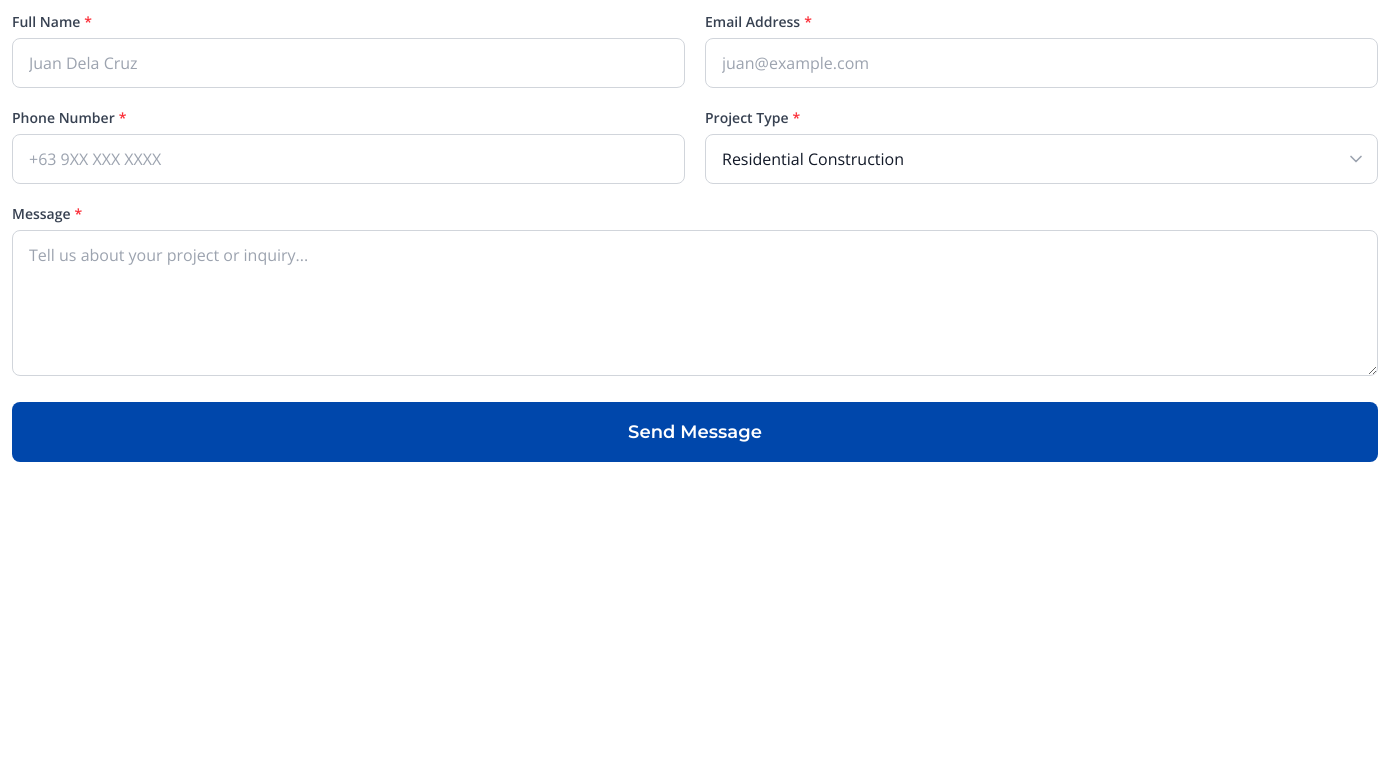
ContactForm › Validation › shows error for short message
The image size is (1390, 780).
In the text box labelled "Message*": (695, 303) [12, 230, 1378, 376], type "short"
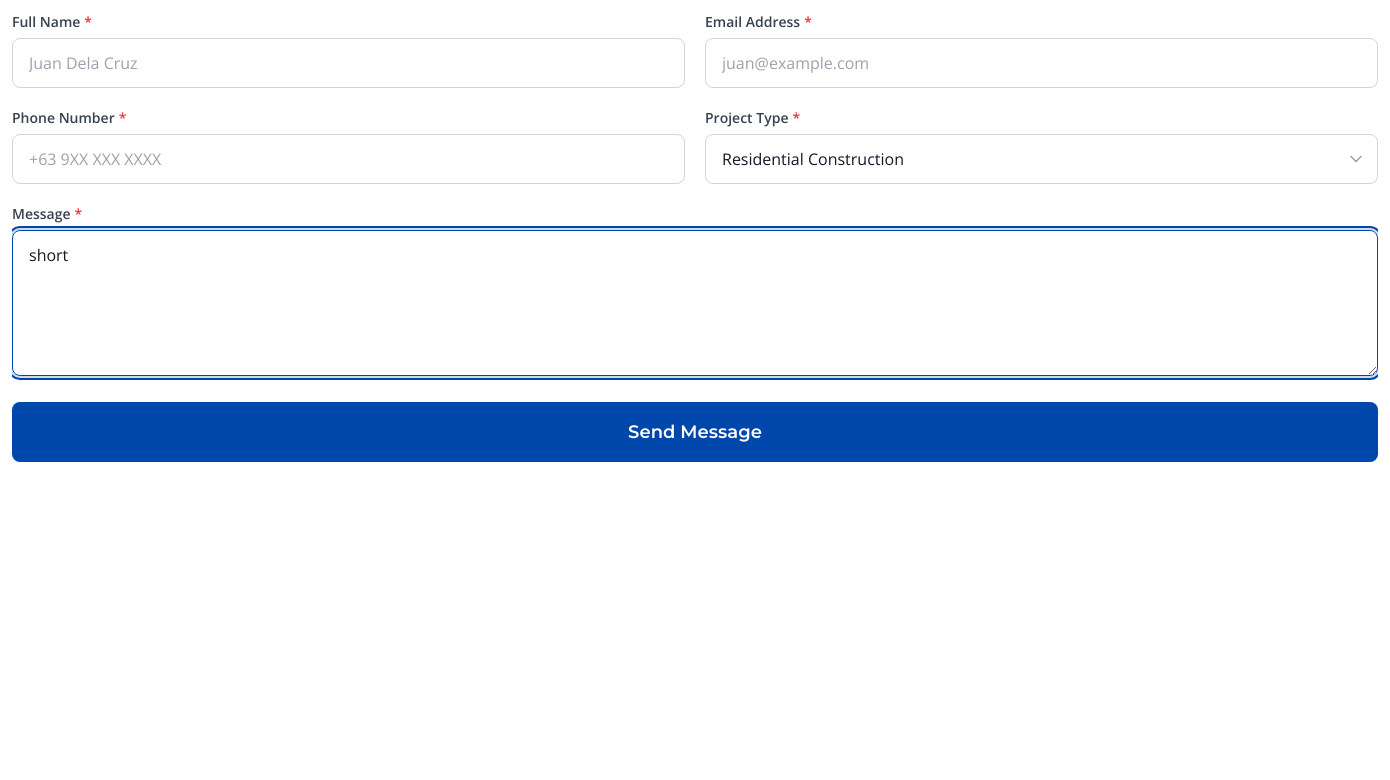
Click the button "Send Message": (695, 432) [12, 402, 1378, 462]
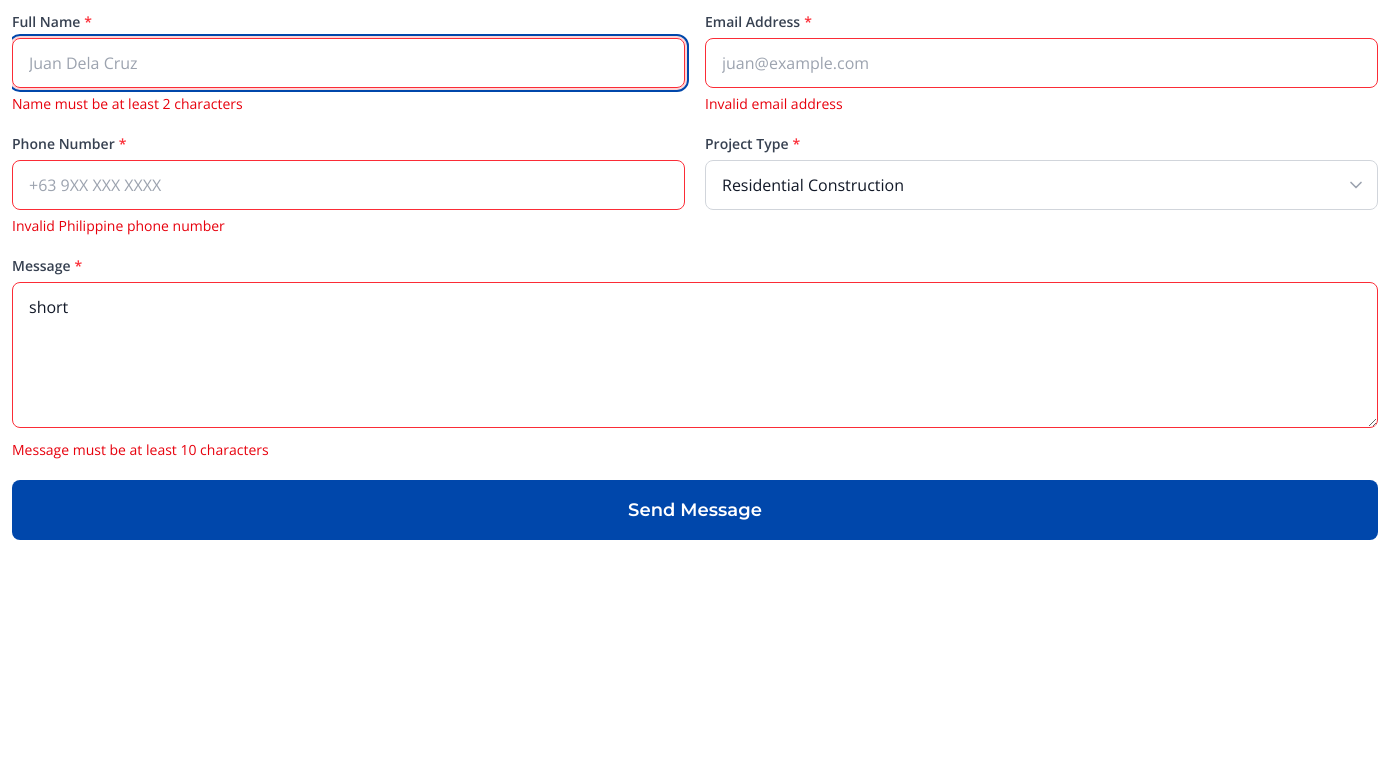
Result: the text "Message must be at least 10 characters" is shown at [12, 440, 269, 459]
